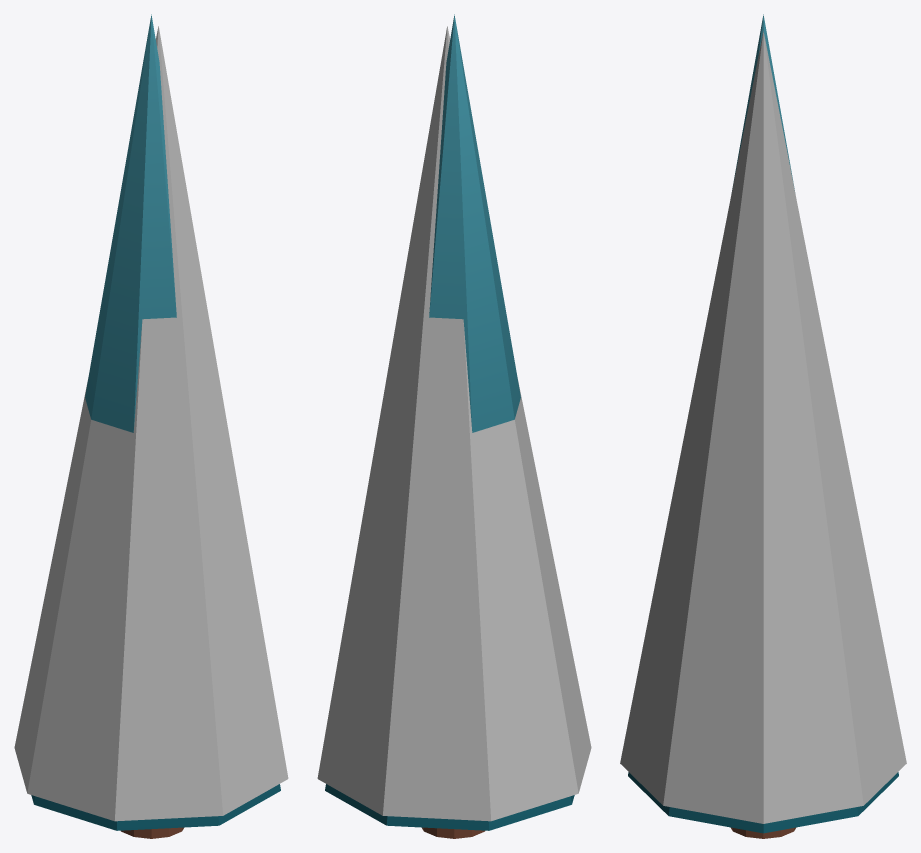
File: Tree_24_winter_gradient_blue_vc.fbx
3 views of the same model, side by side, from view 1: azimuth 30°, elevation 25°; view 2: azimuth 150°, elevation 25°; view 3: azimuth 270°, elevation 25° (orthographic).
Parts seen in each view (by area): view 1: Tree_24_winter_gradient_blue_vc; view 2: Tree_24_winter_gradient_blue_vc; view 3: Tree_24_winter_gradient_blue_vc.
Part boxes in pixels (x1,y1,x2,y2): Tree_24_winter_gradient_blue_vc: (14, 14, 288, 838); Tree_24_winter_gradient_blue_vc: (317, 14, 591, 838); Tree_24_winter_gradient_blue_vc: (620, 14, 906, 838).
Size of the model in its own units: 90.22 by 281 by 90.22.
